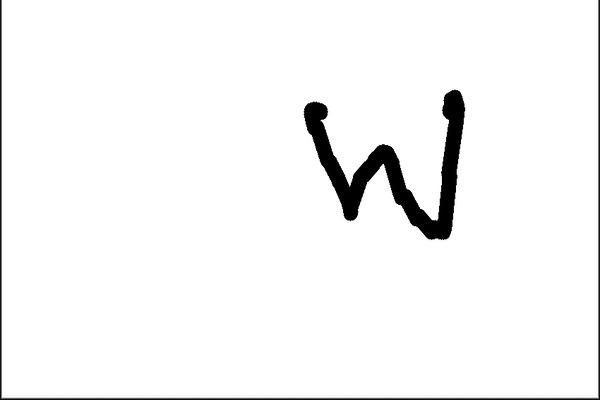w: (278, 66, 484, 259)
